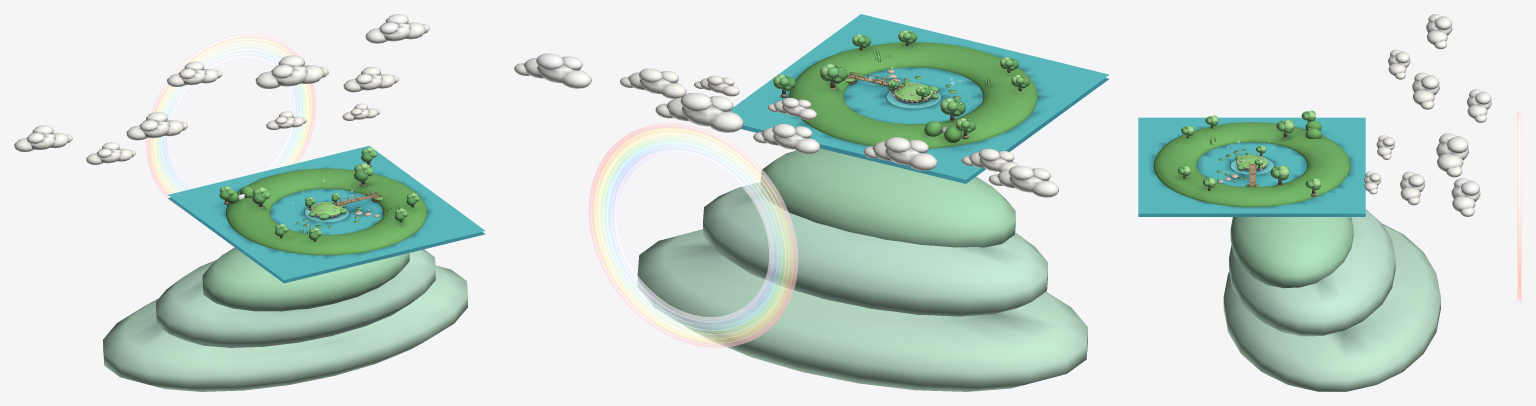
The model's file is home_environment.glb.
3 views of the same model, side by side, from view 1: azimuth 30°, elevation 25°; view 2: azimuth 150°, elevation 25°; view 3: azimuth 270°, elevation 25° (orthographic). The views are drawn at different scales.
Parts seen in each view (by area): view 1: ENV_Merged_HillFar, ENV_Merged_Water, ENV_Merged_GrassShade, ENV_Merged_Cloud, ENV_DistantHill_0, ENV_Rainbow_Red, ENV_RiverBed, ENV_Rainbow_Orange, ENV_Rainbow_Yellow, ENV_Rainbow_Green, ENV_Rainbow_Violet, ENV_Rainbow_Blue (+3 smaller); view 2: ENV_Merged_HillFar, ENV_DistantHill_0, ENV_Merged_Water, ENV_Merged_GrassShade, ENV_Merged_Cloud, ENV_Rainbow_Red, ENV_Rainbow_Orange, ENV_Rainbow_Yellow, ENV_Rainbow_Green, ENV_Rainbow_Cyan, ENV_Rainbow_Blue, ENV_Rainbow_Violet (+4 smaller); view 3: ENV_Merged_HillFar, ENV_Merged_Water, ENV_Merged_GrassShade, ENV_DistantHill_0, ENV_Merged_Cloud, ENV_Merged_Leaf, ENV_Rainbow_Red, ENV_RiverBed, ENV_Rainbow_Orange, ENV_Merged_LeafLit.
Part boxes in pixels (<box>): ENV_Merged_HillFar: <box>103,249,467,391</box>; ENV_Merged_Water: <box>168,146,485,279</box>; ENV_Merged_GrassShade: <box>226,168,427,255</box>; ENV_Merged_Cloud: <box>14,14,429,164</box>; ENV_DistantHill_0: <box>202,247,409,311</box>; ENV_Rainbow_Red: <box>146,33,316,208</box>; ENV_RiverBed: <box>168,197,484,283</box>; ENV_Rainbow_Orange: <box>149,37,312,194</box>; ENV_Rainbow_Yellow: <box>153,41,309,193</box>; ENV_Rainbow_Green: <box>156,44,306,192</box>; ENV_Rainbow_Violet: <box>166,55,296,188</box>; ENV_Rainbow_Blue: <box>162,51,299,189</box>; ENV_Merged_HillFar: <box>637,182,1087,391</box>; ENV_DistantHill_0: <box>761,148,1015,247</box>; ENV_Merged_Water: <box>731,14,1108,179</box>; ENV_Merged_GrassShade: <box>789,42,1037,148</box>; ENV_Merged_Cloud: <box>514,53,1058,197</box>; ENV_Rainbow_Red: <box>588,123,798,347</box>; ENV_Rainbow_Orange: <box>592,127,793,343</box>; ENV_Rainbow_Yellow: <box>596,132,789,339</box>; ENV_Rainbow_Green: <box>600,136,785,334</box>; ENV_Rainbow_Cyan: <box>604,140,781,330</box>; ENV_Rainbow_Blue: <box>608,145,777,326</box>; ENV_Rainbow_Violet: <box>612,149,773,321</box>; ENV_Merged_HillFar: <box>1223,209,1440,391</box>; ENV_Merged_Water: <box>1138,117,1365,213</box>; ENV_Merged_GrassShade: <box>1153,120,1350,207</box>; ENV_DistantHill_0: <box>1230,217,1353,288</box>; ENV_Merged_Cloud: <box>1364,14,1491,216</box>; ENV_Merged_Leaf: <box>1179,110,1320,190</box>; ENV_Rainbow_Red: <box>1517,111,1521,302</box>; ENV_RiverBed: <box>1138,213,1365,216</box>; ENV_Rainbow_Orange: <box>1517,115,1521,298</box>; ENV_Merged_LeafLit: <box>1181,111,1320,188</box>.
Size of the model in its own units: 71.95 by 39.51 by 57.31.
